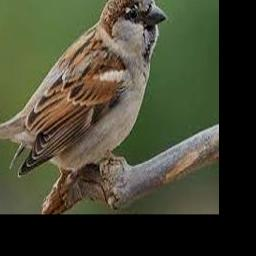Sparrow: (0, 0, 167, 178)
